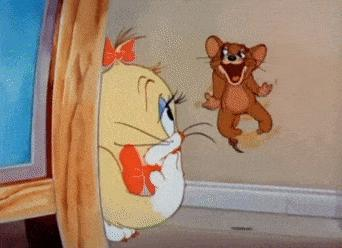jerry: (202, 35, 275, 154)
